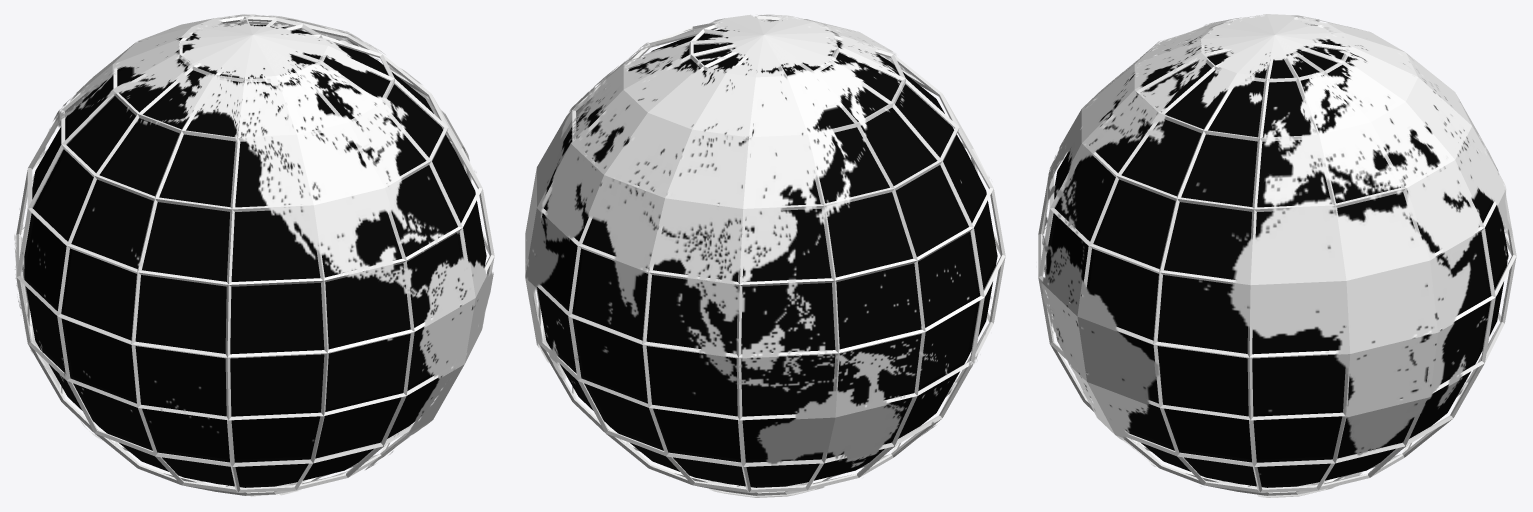
The model's file is globe2.glb.
3 views of the same model, side by side, from view 1: azimuth 30°, elevation 25°; view 2: azimuth 150°, elevation 25°; view 3: azimuth 270°, elevation 25° (orthographic).
Visible parts, largest first — view 1: Sphere_002, Sphere, Sphere_001; view 2: Sphere_002, Sphere, Sphere_001; view 3: Sphere, Sphere_002, Sphere_001.
Part boxes in pixels (x1=…): Sphere_002: x1=24, y1=24, x2=486, y2=487; Sphere: x1=14, y1=14, x2=493, y2=496; Sphere_001: x1=16, y1=16, x2=494, y2=495; Sphere_002: x1=535, y1=28, x2=997, y2=487; Sphere: x1=525, y1=14, x2=992, y2=497; Sphere_001: x1=527, y1=16, x2=1005, y2=495; Sphere: x1=1041, y1=14, x2=1512, y2=497; Sphere_002: x1=1046, y1=35, x2=1508, y2=487; Sphere_001: x1=1038, y1=17, x2=1516, y2=495.
Bounding box in the file's own units: 1.99 × 2 × 1.98.
3 materials, 1 textured.
